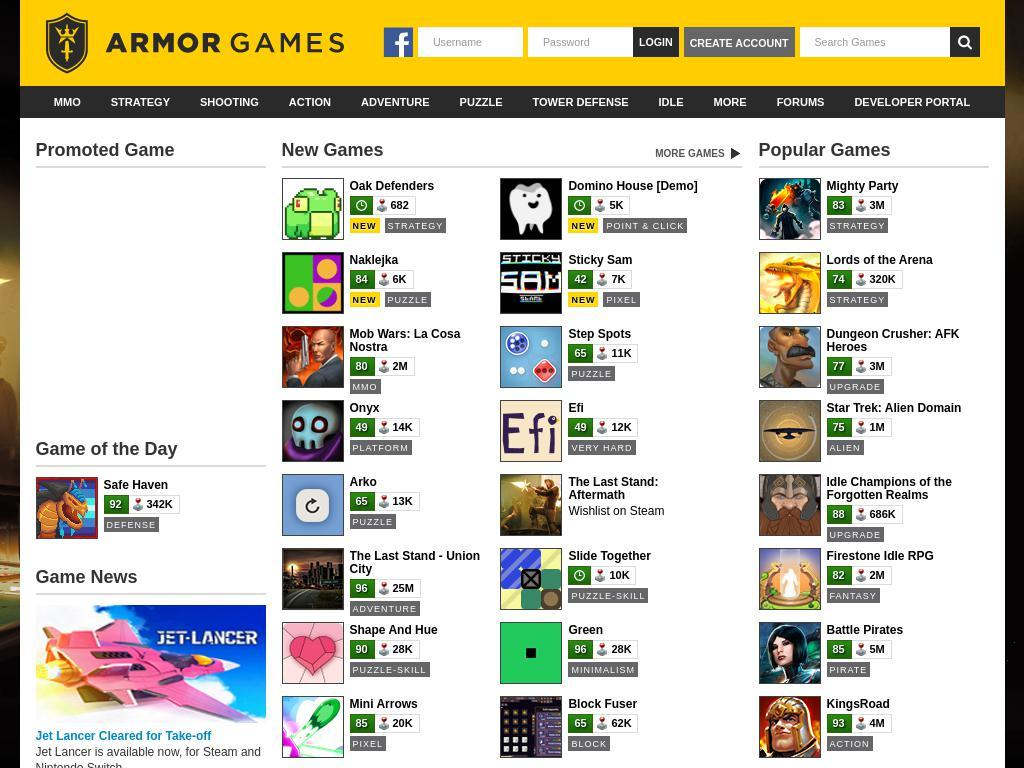button: (758, 178, 974, 240), (758, 252, 974, 314), (758, 326, 974, 388), (758, 400, 974, 462), (758, 474, 974, 536), (758, 548, 974, 610), (758, 622, 974, 684), (758, 696, 974, 758), (35, 477, 246, 539), (281, 178, 492, 240), (500, 178, 711, 240), (281, 252, 492, 314), (500, 252, 711, 314), (281, 326, 492, 388), (500, 326, 711, 388), (281, 400, 492, 462), (500, 400, 711, 462), (281, 474, 492, 536), (500, 474, 711, 536), (281, 548, 492, 610), (500, 548, 711, 610), (281, 622, 492, 684), (500, 622, 711, 684), (281, 696, 492, 758), (500, 696, 711, 758), (843, 86, 982, 118), (521, 86, 640, 118), (35, 658, 266, 673), (683, 27, 795, 57), (349, 86, 441, 118), (99, 86, 182, 118), (188, 86, 270, 118), (765, 86, 836, 118), (277, 86, 343, 118), (448, 86, 514, 118), (702, 86, 758, 118), (655, 144, 742, 164), (42, 86, 92, 118), (647, 86, 695, 118), (632, 27, 679, 57), (949, 27, 980, 57)
field: (799, 27, 950, 57), (527, 27, 633, 57), (417, 27, 523, 57)
heading: (35, 433, 178, 465), (35, 134, 175, 166), (758, 134, 891, 166), (35, 561, 138, 593), (281, 134, 384, 166)
iframe: (35, 178, 244, 418)
image: (35, 605, 266, 724), (44, 12, 345, 74), (35, 477, 96, 537), (281, 178, 342, 238), (500, 178, 561, 238), (281, 252, 342, 312), (500, 252, 561, 312), (281, 326, 342, 386), (500, 326, 561, 386), (281, 400, 342, 460), (500, 400, 561, 460), (281, 474, 342, 534), (500, 474, 561, 534), (281, 548, 342, 608), (500, 548, 561, 608), (281, 622, 342, 682), (500, 622, 561, 682), (281, 696, 342, 756), (500, 696, 561, 756), (758, 178, 819, 238), (758, 252, 819, 312), (758, 326, 819, 386), (758, 400, 819, 460), (758, 474, 819, 534), (758, 548, 819, 608), (758, 622, 819, 682), (758, 696, 819, 756), (382, 27, 413, 57), (957, 35, 972, 50), (727, 146, 742, 160), (355, 199, 367, 211), (574, 199, 586, 211), (574, 569, 586, 581), (132, 498, 143, 511), (376, 199, 387, 212), (595, 199, 606, 212), (378, 273, 389, 286), (597, 273, 608, 286), (378, 360, 389, 373), (597, 347, 608, 360), (378, 421, 389, 434), (597, 421, 608, 434), (378, 495, 389, 508), (378, 582, 389, 595), (595, 569, 606, 582), (378, 643, 389, 656), (597, 643, 608, 656), (378, 717, 389, 730), (597, 717, 608, 730), (855, 199, 866, 212), (855, 273, 866, 286), (855, 360, 866, 373), (855, 421, 866, 434), (855, 508, 866, 521), (855, 569, 866, 582), (855, 643, 866, 656), (855, 717, 866, 730)
link: (103, 495, 129, 514), (349, 270, 375, 289), (568, 270, 594, 289), (349, 357, 375, 376), (568, 344, 594, 363), (349, 418, 375, 437), (568, 418, 594, 437), (349, 492, 375, 511), (349, 579, 375, 598), (349, 640, 375, 659), (568, 640, 594, 659), (349, 714, 375, 733), (568, 714, 594, 733), (826, 196, 852, 215), (826, 270, 852, 289), (826, 357, 852, 376), (826, 418, 852, 437), (826, 505, 852, 524), (826, 566, 852, 585), (826, 640, 852, 659), (826, 714, 852, 733)
text: (500, 474, 711, 518), (35, 744, 266, 768), (35, 728, 266, 745), (826, 328, 972, 354), (826, 476, 972, 502), (349, 328, 490, 354), (568, 476, 709, 502), (349, 550, 490, 576), (826, 180, 972, 193), (826, 254, 972, 267), (826, 402, 972, 415), (826, 550, 972, 563), (826, 624, 972, 637), (826, 698, 972, 711), (103, 479, 244, 492), (349, 180, 490, 193), (568, 180, 709, 193), (349, 254, 490, 267), (568, 254, 709, 267), (568, 328, 709, 341), (349, 402, 490, 415), (568, 402, 709, 415), (349, 476, 490, 489), (568, 550, 709, 563), (349, 624, 490, 637), (568, 624, 709, 637), (349, 698, 490, 711), (568, 698, 709, 711), (603, 218, 688, 233), (568, 588, 649, 603), (349, 662, 430, 677), (349, 601, 421, 616), (568, 662, 638, 677), (568, 440, 636, 455), (384, 218, 447, 233), (349, 440, 412, 455), (826, 218, 889, 233), (826, 292, 889, 307), (826, 379, 885, 394), (826, 527, 885, 542), (103, 517, 160, 532), (826, 588, 880, 603), (655, 148, 728, 159), (384, 292, 432, 307), (349, 514, 397, 529), (568, 366, 615, 381), (826, 736, 873, 751), (826, 662, 871, 677), (568, 736, 610, 751), (349, 736, 387, 751), (826, 440, 864, 455), (603, 292, 640, 307), (349, 379, 381, 394), (349, 218, 380, 233), (568, 218, 599, 233), (349, 292, 380, 307), (568, 292, 599, 307), (146, 498, 173, 510), (869, 273, 896, 285), (869, 508, 896, 520), (392, 582, 414, 594), (611, 347, 632, 359), (392, 421, 413, 433), (611, 421, 632, 433), (392, 495, 413, 507), (609, 569, 630, 581), (392, 643, 413, 655), (611, 643, 632, 655), (392, 717, 413, 729), (611, 717, 632, 729), (390, 199, 409, 211), (392, 360, 408, 372), (869, 199, 885, 211), (869, 360, 885, 372), (869, 421, 885, 433), (869, 569, 885, 581), (869, 643, 885, 655), (869, 717, 885, 729), (609, 199, 624, 211), (392, 273, 407, 285), (611, 273, 626, 285)
